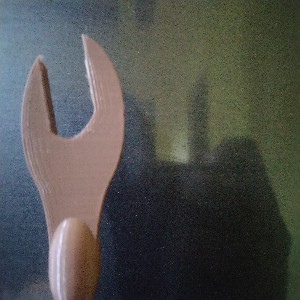spanner: (19, 33, 125, 300)
